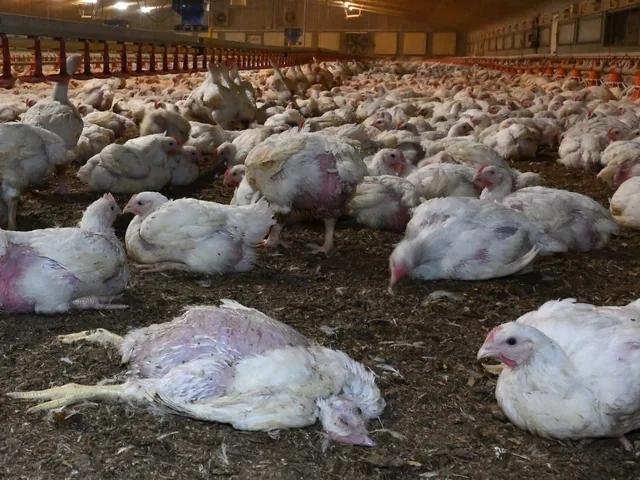AbNormal: (28, 289, 388, 473)
Normal: (474, 290, 640, 459)
